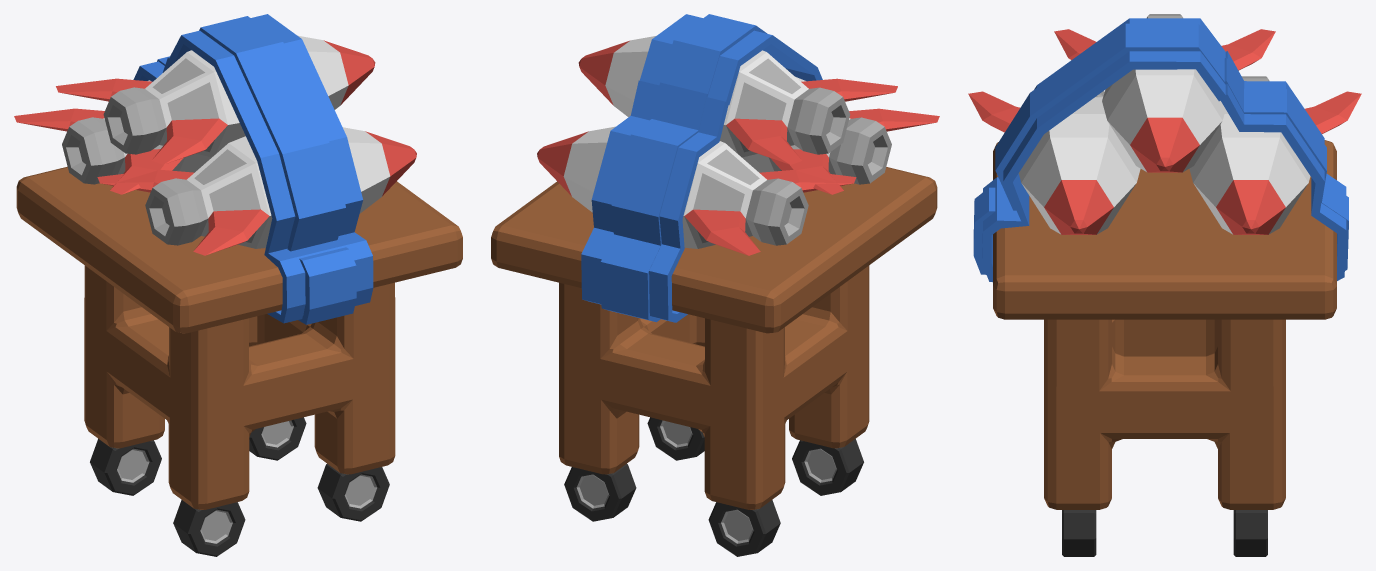
File: StoolsRocket.fbx
3 renders of one model, left to right at view 1: azimuth 30°, elevation 25°; view 2: azimuth 150°, elevation 25°; view 3: azimuth 270°, elevation 25°, orthographic. The views are drawn at different scales.
Parts seen in each view (by area): view 1: StoolRocket; view 2: StoolRocket; view 3: StoolRocket.
Boxes of the visible parts, x1,y1,x2,y2 form: StoolRocket: [14, 14, 462, 556]; StoolRocket: [491, 14, 939, 556]; StoolRocket: [968, 14, 1361, 556].
Size of the model in its own units: 115 by 100 by 155.
